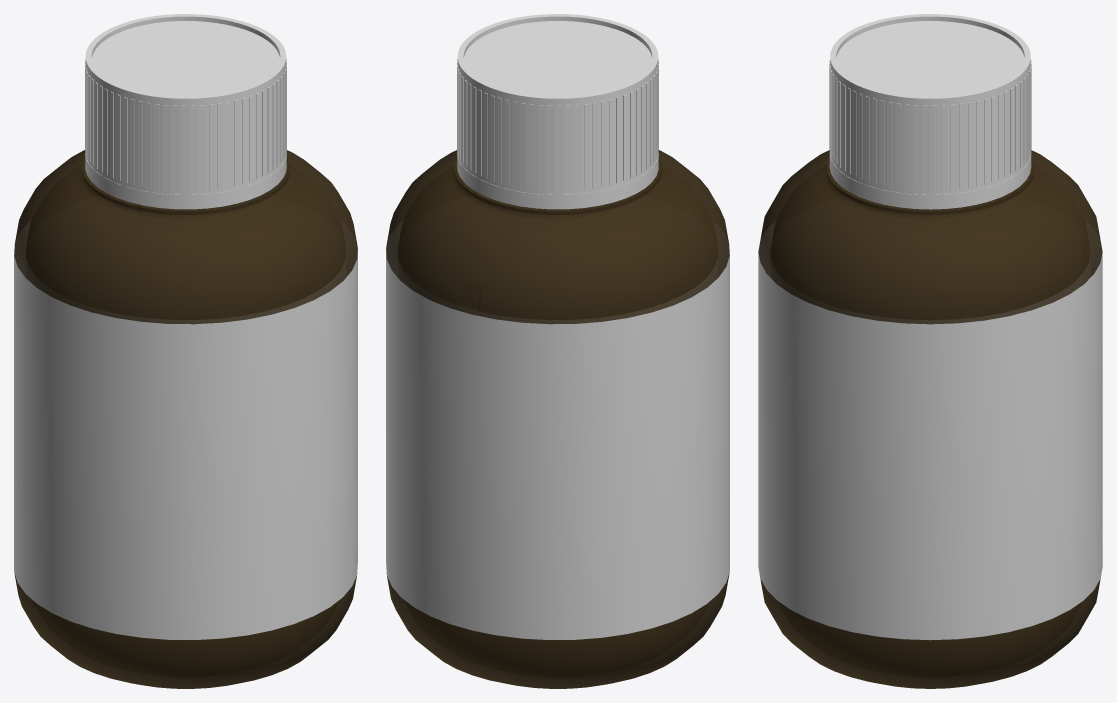
The model's file is Medicine Bottle.fbx.
3 views of the same model, side by side, from view 1: azimuth 30°, elevation 25°; view 2: azimuth 150°, elevation 25°; view 3: azimuth 270°, elevation 25° (orthographic).
Visible parts, largest first — view 1: polySurface1, pCylinder2, polySurface2; view 2: polySurface1, pCylinder2, polySurface2; view 3: polySurface1, pCylinder2, polySurface2.
Part boxes in pixels (x1=…): polySurface1: x1=14, y1=150, x2=357, y2=688; pCylinder2: x1=85, y1=14, x2=286, y2=194; polySurface2: x1=85, y1=152, x2=286, y2=209; polySurface1: x1=386, y1=150, x2=729, y2=688; pCylinder2: x1=457, y1=14, x2=658, y2=194; polySurface2: x1=457, y1=152, x2=658, y2=209; polySurface1: x1=758, y1=150, x2=1102, y2=688; pCylinder2: x1=829, y1=14, x2=1031, y2=194; polySurface2: x1=829, y1=152, x2=1031, y2=209.
Size of the model in its own units: 4.46 by 8.41 by 4.46.
